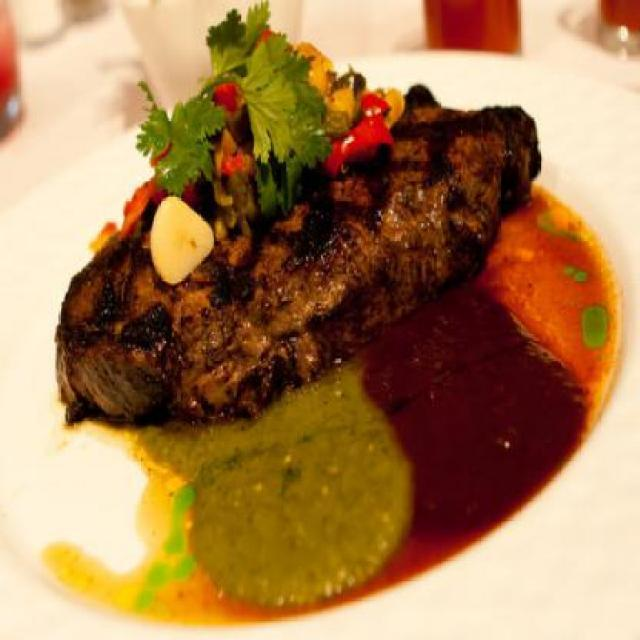Steak: (28, 86, 560, 382)
